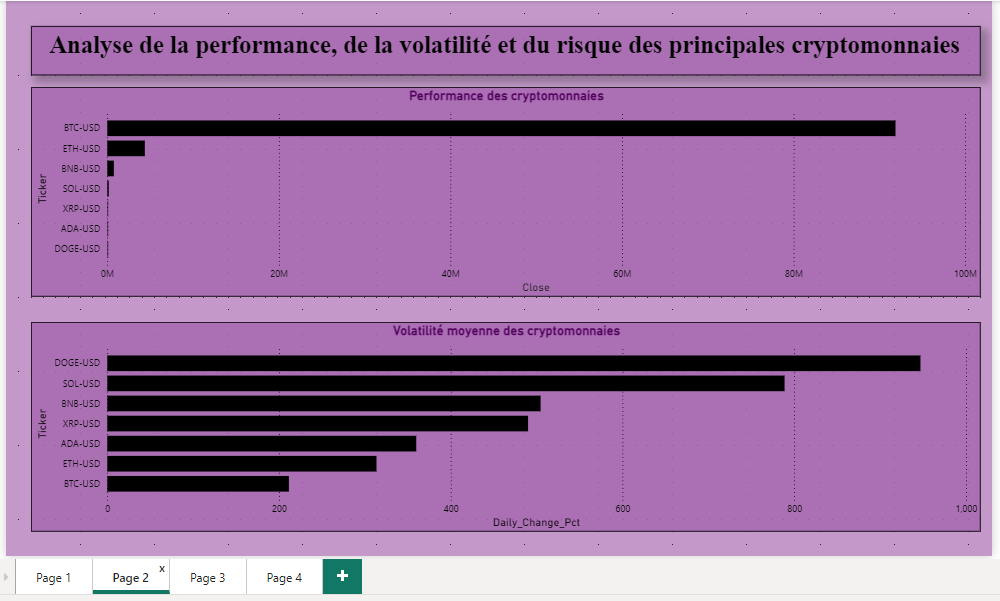

What the dashboard file says about the page in this screenshot:
{"tool":"powerbi","page":{"name":" Page 2","canvas":[1280,720],"ordinal":1},"visuals":[{"type":"textbox","box":[32,32,1232,64],"z":0},{"type":"clusteredBarChart","title":"Performance des cryptomonnaies","fields":{"Category":["cryptos_yahoo_enriched_2021_2025.Ticker"],"Y":["Sum(cryptos_yahoo_enriched_2021_2025.Close)"]},"box":[32,112,1232,272],"z":1},{"type":"clusteredBarChart","title":"Volatilité moyenne des cryptomonnaies","fields":{"Y":["Sum(cryptos_yahoo_enriched_2021_2025.Daily_Change_Pct)"],"Category":["cryptos_yahoo_enriched_2021_2025.Ticker"]},"box":[32,416,1232,272],"z":2}]}

Visuals, with their boxes on the page's 1280x720 design canvas (x1, y1, x2, y2). These are canvas units, not pixel positions in the 1000x601 screenshot, which may show the page scaled, cropped or inside an application window:
textbox: box(32, 32, 1264, 96)
"Performance des cryptomonnaies" clusteredBarChart: box(32, 112, 1264, 384)
"Volatilité moyenne des cryptomonnaies" clusteredBarChart: box(32, 416, 1264, 688)
